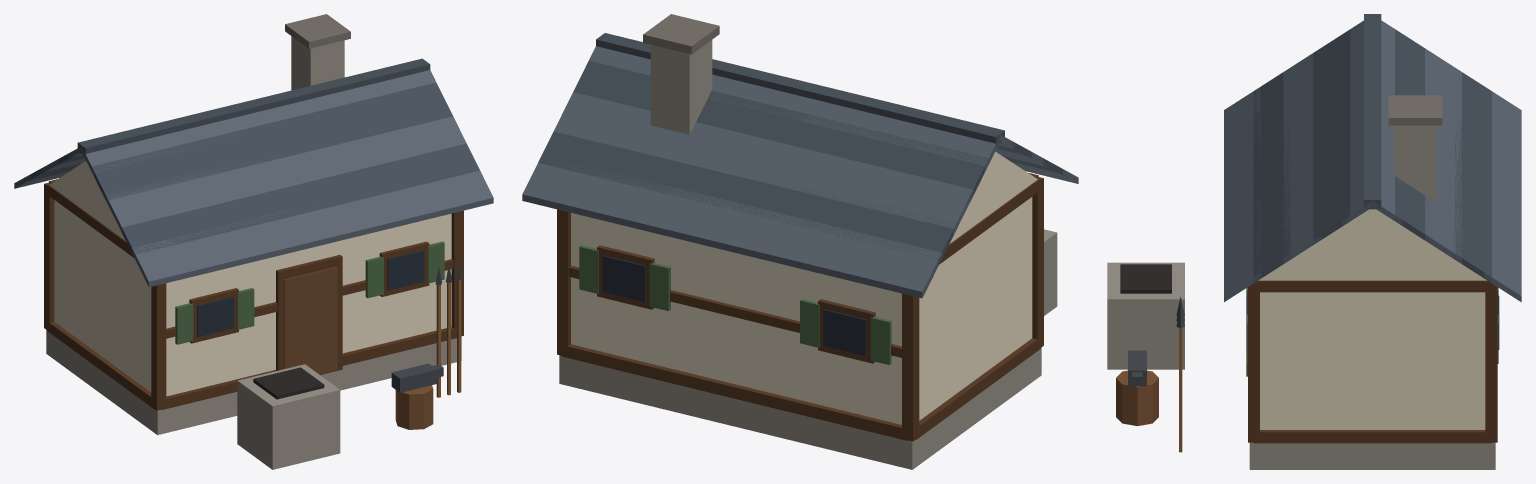
The model's file is armory.glb.
The picture shows the model from 3 angles, left to right: view 1: azimuth 30°, elevation 25°; view 2: azimuth 150°, elevation 25°; view 3: azimuth 270°, elevation 25°; orthographic projection. The views are drawn at different scales.
Visible parts, largest first — view 1: armory; view 2: armory; view 3: armory.
Part boxes in pixels (box(x1,y1,x2,y2)): armory: box(14, 14, 493, 469); armory: box(522, 14, 1078, 469); armory: box(1107, 14, 1521, 469).
Size of the model in its own units: 5.1 by 4.17 by 4.8.
